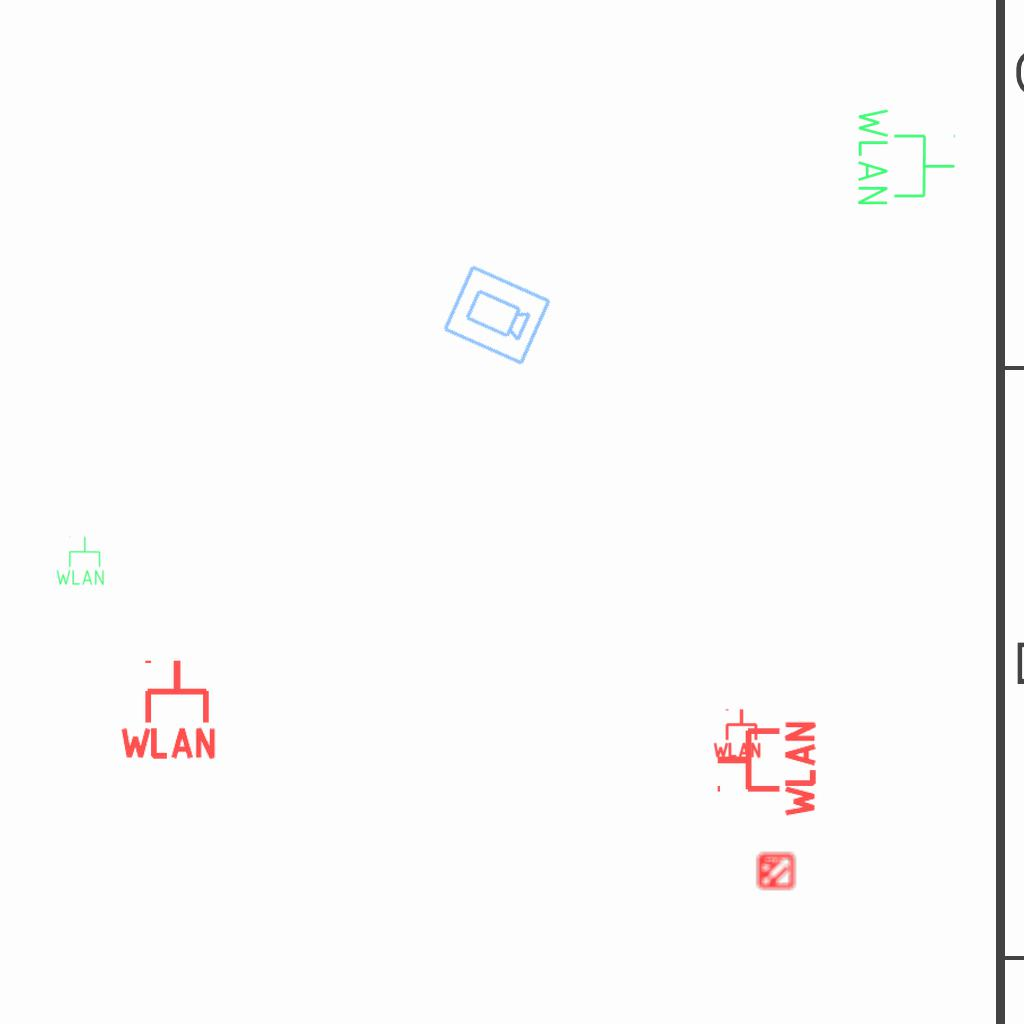KFO_Kamera_mit_Festobjektiv: (439, 261, 554, 370)
OT_Multisensormelder_(Kombination_RMO_WMD): (747, 843, 803, 899)
WLAN: (854, 104, 958, 209), (116, 656, 220, 761), (713, 717, 818, 821), (54, 535, 106, 587), (711, 707, 763, 759)
